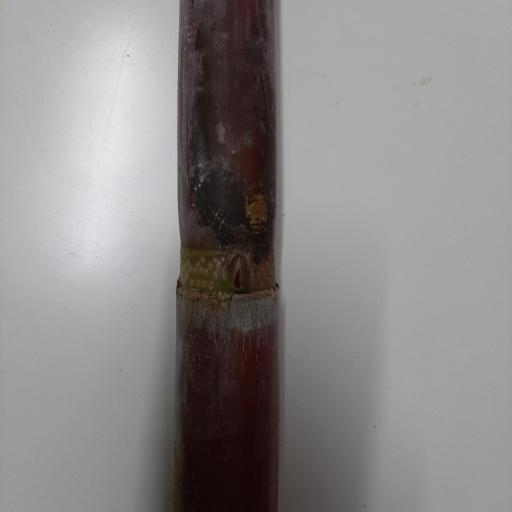Bud: (225, 252, 249, 293)
